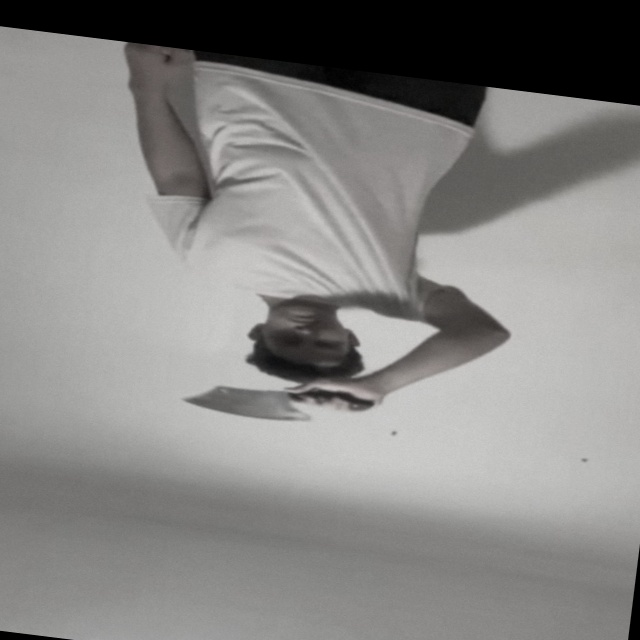Sharp-Object: (181, 382, 312, 425)
